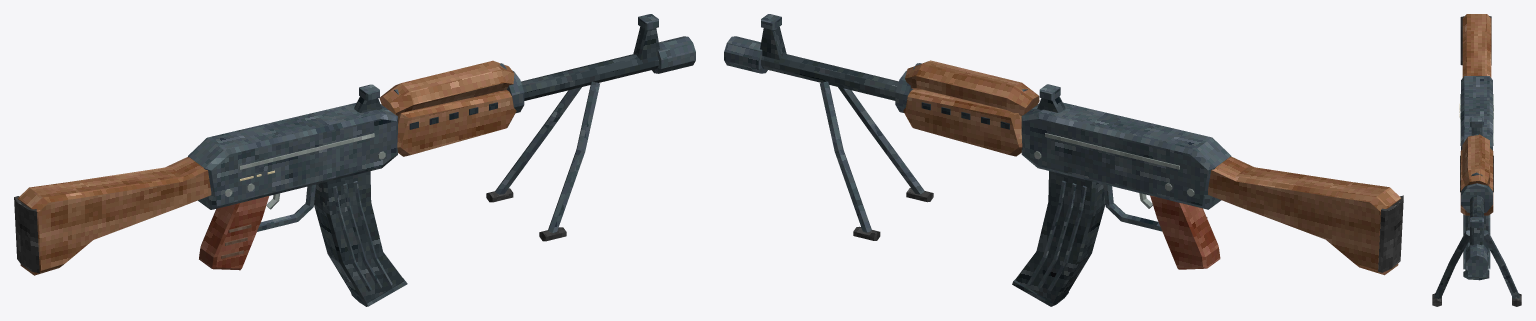
The model's file is 11_rpk.glb.
The picture shows the model from 3 angles, left to right: view 1: azimuth 30°, elevation 25°; view 2: azimuth 150°, elevation 25°; view 3: azimuth 270°, elevation 25°; orthographic projection. The views are drawn at different scales.
Visible parts, largest first — view 1: 11_rpk; view 2: 11_rpk; view 3: 11_rpk.
Boxes of the visible parts, x1=… form: 11_rpk: x1=14, y1=14, x2=695, y2=306; 11_rpk: x1=724, y1=14, x2=1403, y2=306; 11_rpk: x1=1432, y1=14, x2=1521, y2=306.
Bounding box in the file's own units: 1.17 × 0.3591 × 0.1805.
1 material, 1 textured.
